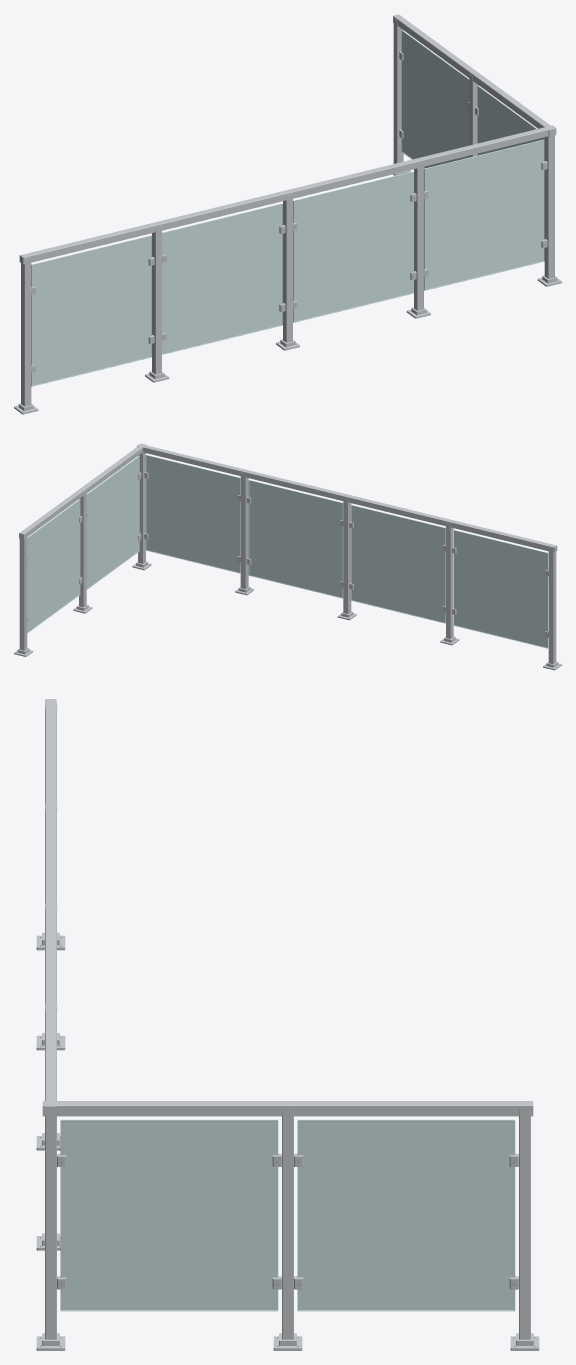
Rendered from silver-post-glass-balcony-railing-01.glb.
3 renders of one model, top to bottom at view 1: azimuth 30°, elevation 25°; view 2: azimuth 150°, elevation 25°; view 3: azimuth 270°, elevation 25°, orthographic. The views are drawn at different scales.
Parts seen in each view (by area): view 1: Clear glass infill, Silver balcony corner return / Clear glass infill, Rectangular upright, Continuous rectangular handrail, Polished glass edges, Silver balcony corner return / Continuous rectangular handra, Silver balcony corner return / Rectangular upright, Glass clamp body, Square mounting foot; view 2: Clear glass infill, Silver balcony corner return / Clear glass infill, Rectangular upright, Continuous rectangular handrail, Polished glass edges, Silver balcony corner return / Rectangular upright, Silver balcony corner return / Continuous rectangular handra, Silver balcony corner return / Polished glass edges, Glass clamp body, Square mounting foot; view 3: Silver balcony corner return / Clear glass infill, Silver balcony corner return / Continuous rectangular handra, Silver balcony corner return / Rectangular upright, Continuous rectangular handrail, Silver balcony corner return / Polished glass edges, Rectangular upright, Silver balcony corner return / Glass clamp body, Square mounting foot.
Part boxes in pixels (left/top/right/bottom): Clear glass infill: left=32, top=140, right=543, bottom=385; Silver balcony corner return / Clear glass infill: left=402, top=31, right=544, bottom=168; Rectangular upright: left=21, top=136, right=554, bottom=406; Continuous rectangular handrail: left=19, top=125, right=556, bottom=264; Polished glass edges: left=31, top=139, right=544, bottom=386; Silver balcony corner return / Continuous rectangular handra: left=393, top=14, right=555, bottom=136; Silver balcony corner return / Rectangular upright: left=393, top=19, right=478, bottom=163; Glass clamp body: left=31, top=161, right=547, bottom=372; Square mounting foot: left=14, top=277, right=561, bottom=414; Clear glass infill: left=146, top=456, right=547, bottom=647; Silver balcony corner return / Clear glass infill: left=27, top=457, right=139, bottom=632; Rectangular upright: left=138, top=452, right=556, bottom=664; Continuous rectangular handrail: left=137, top=444, right=557, bottom=552; Polished glass edges: left=146, top=455, right=548, bottom=648; Silver balcony corner return / Rectangular upright: left=19, top=491, right=86, bottom=650; Silver balcony corner return / Continuous rectangular handra: left=19, top=443, right=146, bottom=539; Silver balcony corner return / Polished glass edges: left=27, top=455, right=139, bottom=633; Glass clamp body: left=144, top=471, right=548, bottom=637; Square mounting foot: left=132, top=563, right=561, bottom=670; Silver balcony corner return / Clear glass infill: left=61, top=1121, right=514, bottom=1309; Silver balcony corner return / Continuous rectangular handra: left=42, top=1101, right=533, bottom=1116; Silver balcony corner return / Rectangular upright: left=282, top=1110, right=530, bottom=1339; Continuous rectangular handrail: left=45, top=699, right=56, bottom=1117; Silver balcony corner return / Polished glass edges: left=60, top=1119, right=515, bottom=1311; Rectangular upright: left=45, top=710, right=56, bottom=1339; Silver balcony corner return / Glass clamp body: left=57, top=1153, right=518, bottom=1289; Square mounting foot: left=36, top=935, right=65, bottom=1350.
Bounding box in the file's own units: 4.12 × 1.12 × 2.12.
